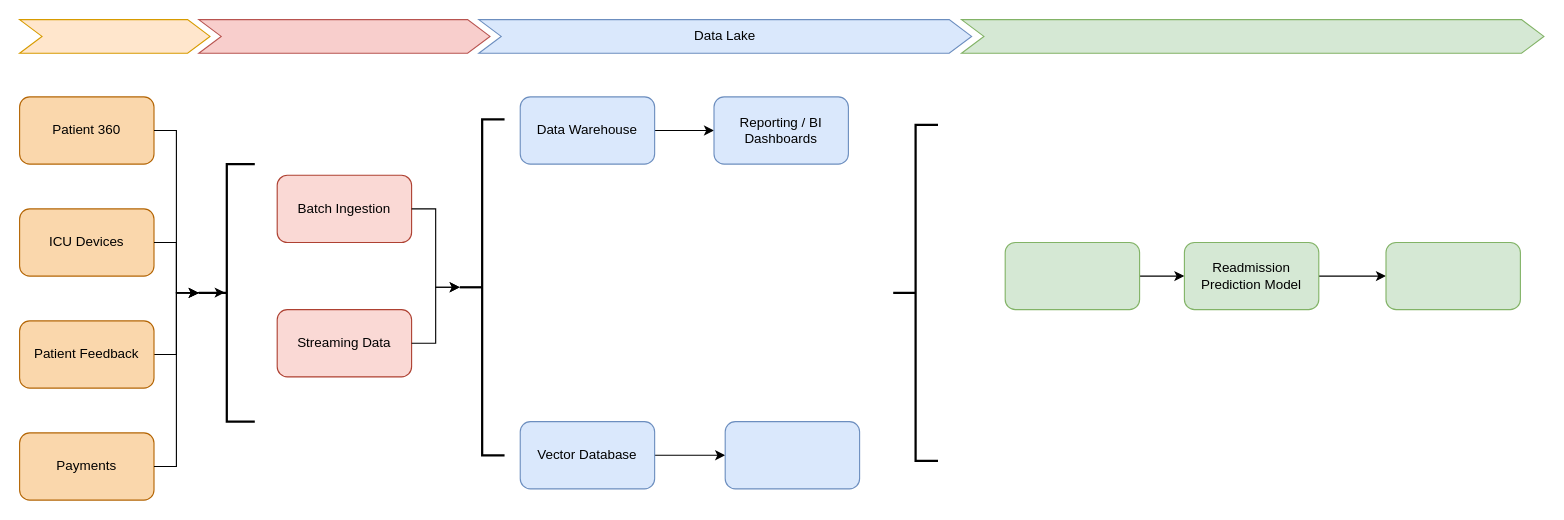
This 1564x520 diagram has some shape labels left out. The shapes that lost their labels are listed below. From the top down, each one's box as (x1, y1, x2, y2) in pixels, then its label:
(18, 18, 210, 53): Data Sources
(198, 18, 490, 53): Ingestion Layer
(960, 18, 1544, 53): Transaction Layer
(1004, 241, 1140, 310): ML Processing Layer
(1385, 241, 1520, 310): Real Time Monitoring (ICU Dashboard)
(724, 421, 860, 489): NLP (Doctor Queries)
